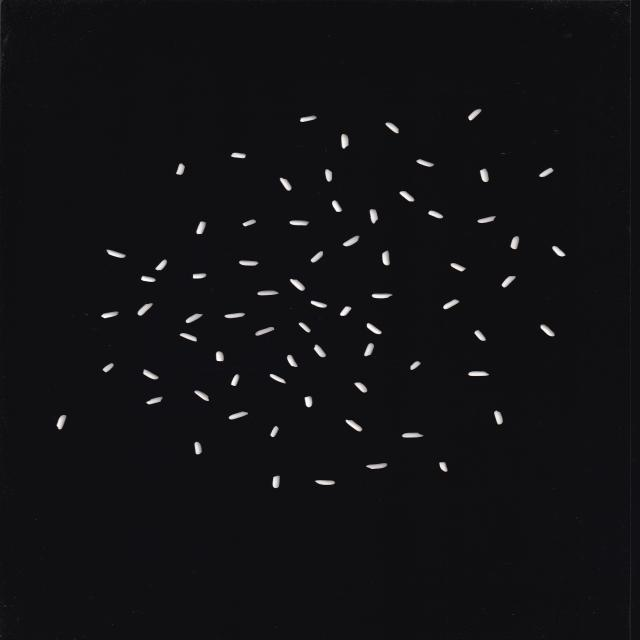Not: (345, 419, 364, 432), (290, 278, 306, 292), (342, 235, 360, 247), (138, 303, 154, 316), (540, 324, 556, 337), (366, 323, 383, 335), (443, 298, 460, 310), (142, 369, 160, 380), (269, 373, 287, 384), (313, 344, 327, 358), (467, 108, 482, 121), (194, 390, 210, 402), (501, 276, 517, 288), (416, 158, 435, 168), (228, 411, 249, 420), (365, 462, 388, 470), (310, 250, 324, 263), (55, 415, 67, 430), (185, 313, 203, 323), (106, 249, 126, 258), (255, 327, 275, 336), (385, 122, 400, 134), (399, 191, 415, 202), (179, 333, 198, 342), (286, 354, 298, 368), (363, 343, 375, 357), (538, 168, 554, 178), (280, 178, 292, 191), (196, 221, 207, 235), (224, 312, 246, 319), (298, 322, 312, 333), (354, 382, 368, 393), (314, 479, 336, 486), (552, 246, 566, 257), (146, 396, 163, 405), (450, 263, 467, 272), (494, 410, 504, 425), (480, 168, 490, 183), (155, 258, 167, 270), (310, 300, 328, 308), (428, 210, 444, 219), (332, 200, 343, 213), (474, 330, 487, 341), (477, 216, 497, 223), (257, 290, 280, 296), (370, 209, 379, 224), (102, 362, 114, 373), (238, 260, 260, 266), (372, 293, 394, 299), (402, 432, 424, 438), (176, 163, 186, 176), (510, 236, 520, 249), (382, 250, 390, 266), (101, 311, 119, 318), (289, 220, 310, 226), (272, 475, 281, 489), (341, 134, 349, 149), (340, 306, 352, 316), (300, 115, 317, 122), (242, 219, 256, 227), (325, 168, 333, 182), (468, 371, 490, 376), (231, 374, 240, 386), (270, 426, 279, 438), (194, 442, 202, 455), (230, 152, 247, 158), (410, 361, 421, 370), (140, 276, 156, 282), (305, 396, 313, 408), (439, 462, 448, 472), (216, 351, 224, 362), (192, 273, 206, 279)
